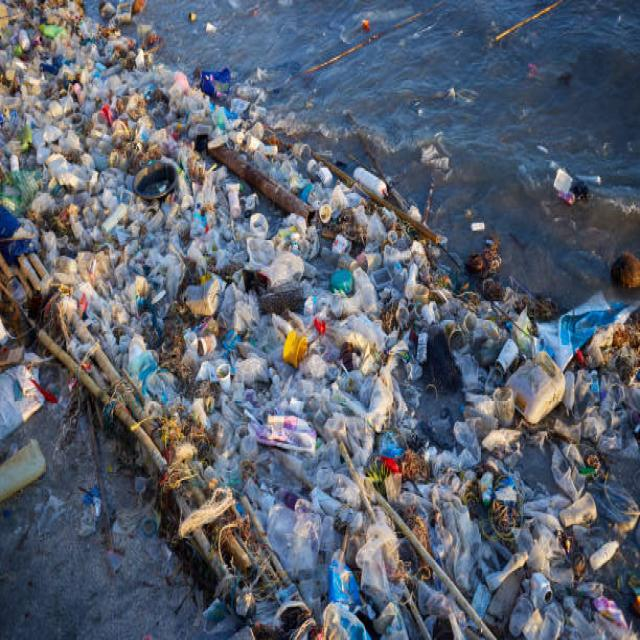garbage: (285, 212, 566, 620), (9, 50, 223, 346), (176, 364, 282, 489), (524, 131, 609, 212)
